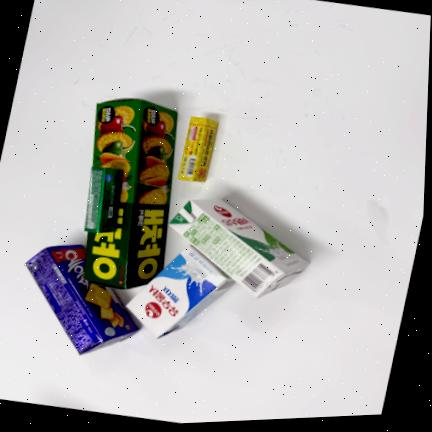cracker_ace: (26, 245, 137, 354)
cracker_vege: (82, 99, 179, 289)
gum_green: (84, 167, 122, 233)
gum_yellow: (178, 117, 218, 183)
milk_blue: (127, 245, 235, 338)
milk_green: (170, 199, 308, 298)
